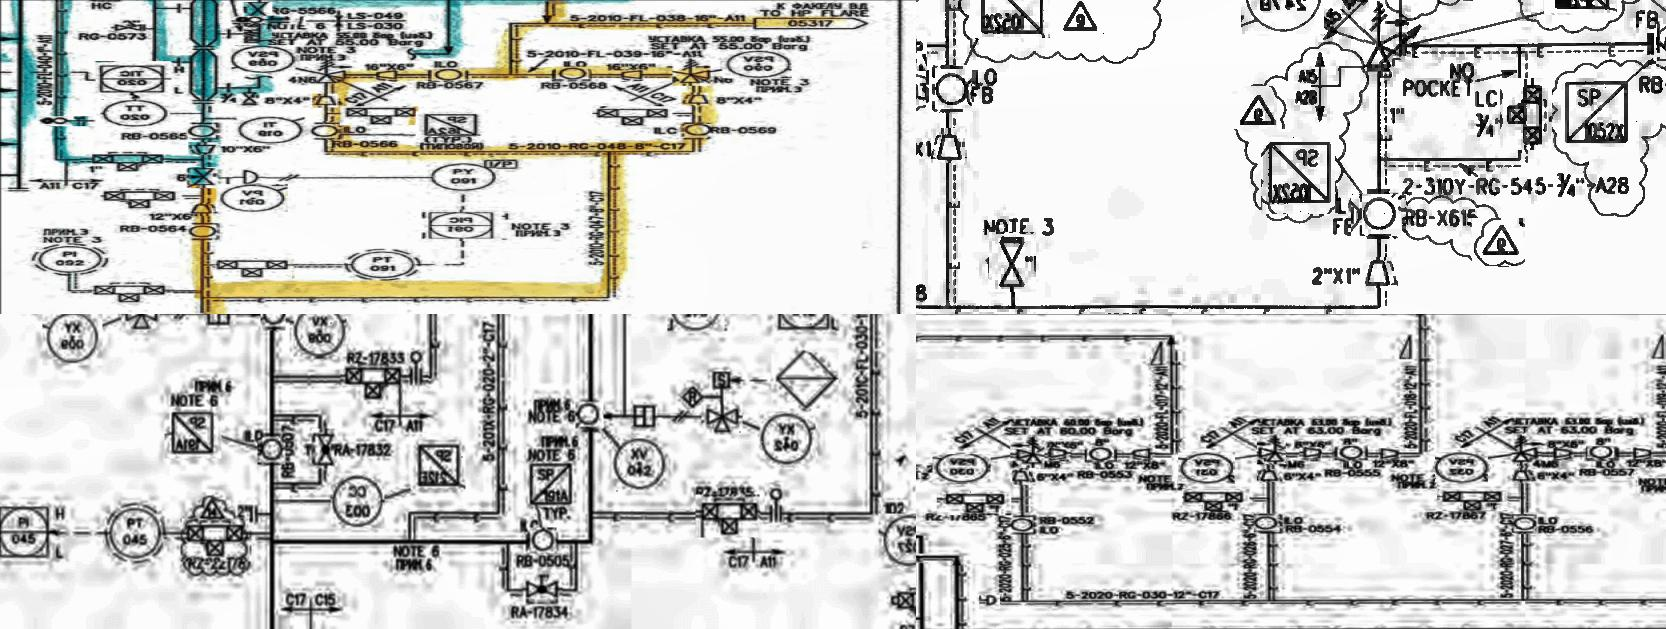2 WAY VALVE: (1500, 79, 1552, 152), (181, 518, 251, 561), (696, 495, 761, 539), (340, 362, 406, 403), (81, 151, 172, 174), (101, 187, 183, 209), (88, 282, 173, 303), (211, 258, 293, 279), (593, 106, 675, 125), (341, 106, 419, 125), (885, 589, 916, 626)
3 WAY GENERAL VALVE: (701, 405, 742, 439), (122, 314, 161, 331)
ANGLE RELIEF VALVE: (1364, 0, 1407, 80), (314, 51, 353, 85), (674, 54, 712, 85)
BLIND SPADE OPEN: (405, 348, 428, 389), (765, 482, 786, 524)
CONCENTRIC REDUCER: (932, 127, 967, 163), (1366, 258, 1398, 289), (367, 70, 405, 81), (189, 142, 220, 155), (313, 93, 340, 107), (682, 93, 711, 106), (190, 203, 219, 216), (618, 69, 646, 81)
DCS ACCESSIBLE: (0, 499, 55, 564), (96, 61, 173, 96), (422, 209, 501, 241), (770, 314, 835, 338)
END CAP: (234, 168, 267, 185)
FIELD INSTRUMENT: (98, 494, 171, 568), (609, 433, 670, 493), (760, 412, 817, 467), (330, 473, 386, 528), (42, 314, 102, 365), (1242, 0, 1326, 36), (337, 246, 428, 279), (27, 243, 116, 275), (1351, 195, 1408, 238), (293, 314, 346, 357), (926, 65, 974, 112), (879, 514, 916, 569), (101, 99, 170, 127), (218, 184, 289, 211), (232, 45, 297, 74), (721, 50, 790, 78), (236, 117, 304, 144), (432, 163, 496, 191), (667, 314, 725, 331), (575, 402, 603, 430), (258, 437, 287, 464), (528, 528, 558, 555), (310, 120, 342, 139), (187, 223, 221, 239), (430, 66, 466, 81), (554, 67, 590, 82), (187, 122, 220, 138), (680, 124, 711, 137), (260, 314, 285, 330), (1657, 25, 1666, 71)
GATE VALVE: (989, 233, 1036, 294), (187, 167, 220, 189), (244, 2, 275, 20), (236, 88, 259, 105), (112, 22, 148, 32)
GLOBE VALVE: (522, 576, 562, 601), (311, 428, 335, 469)
HARDWIRED INTERLOCK FIELD: (679, 381, 713, 408)
HARDWIRED INTERLOCK PRIMARY.: (771, 353, 838, 409)
REVISION TRIANGLE: (1472, 218, 1525, 266), (1062, 0, 1108, 37), (201, 494, 227, 517)
SELF ACTING VALVE: (1232, 87, 1289, 131)
SPECIAL PIPING ITEM: (1553, 76, 1639, 149), (1261, 138, 1334, 216), (970, 0, 1051, 39), (165, 407, 223, 460), (410, 440, 465, 491), (527, 459, 578, 510), (416, 112, 482, 137), (1544, 0, 1618, 15)
SPECTACLE BLIND OPEN: (38, 116, 102, 126), (232, 16, 308, 24)
SPEED FLOW METER: (708, 364, 742, 394)
